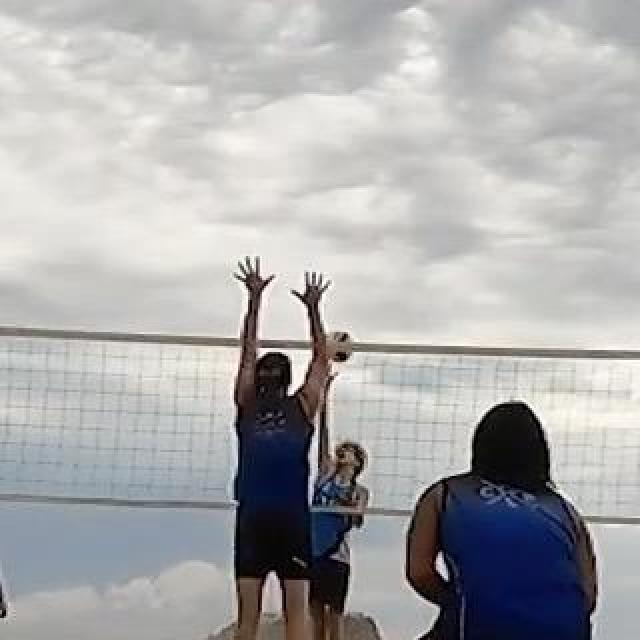volleyball: (328, 333, 354, 363)
